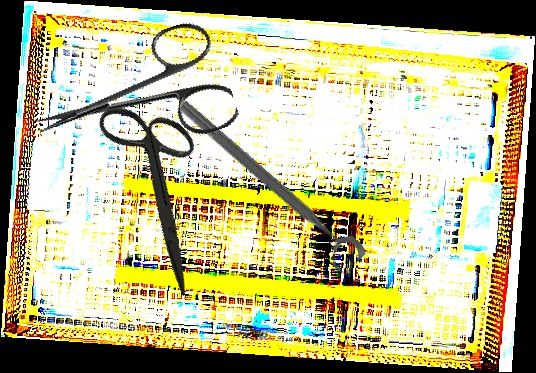Fixation Ring: (165, 95, 369, 279)
Iris Scissors: (49, 81, 268, 296), (21, 15, 242, 183)
